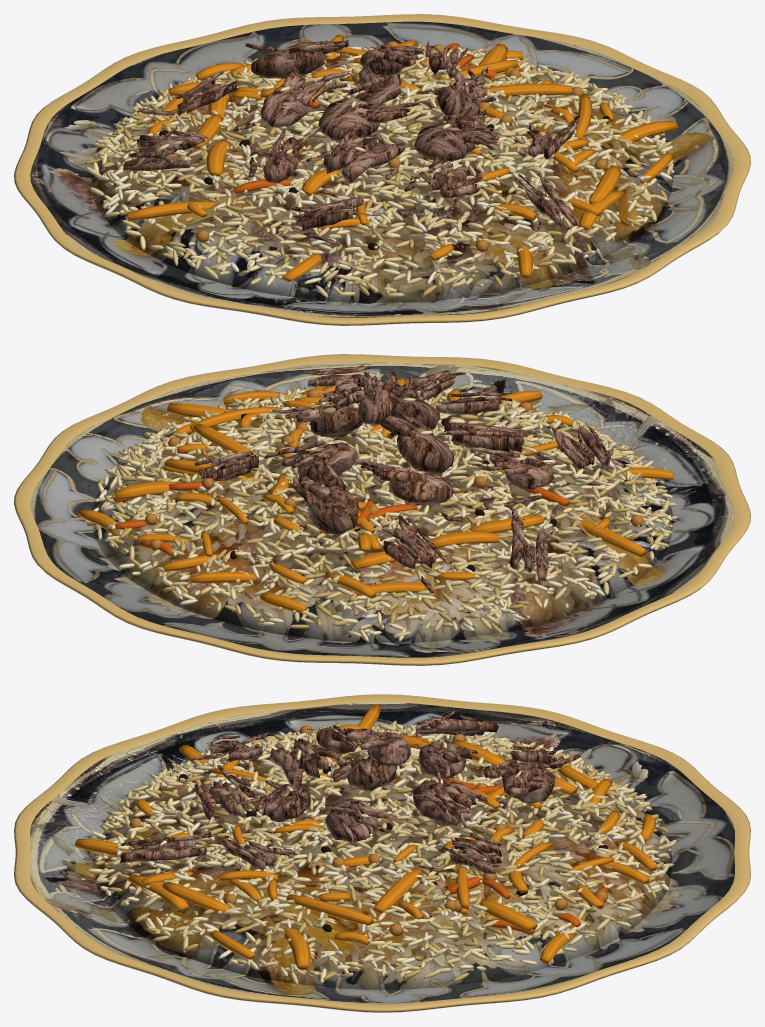
File: toyosh.glb
The picture shows the model from 3 angles, top to bottom: view 1: azimuth 30°, elevation 25°; view 2: azimuth 150°, elevation 25°; view 3: azimuth 270°, elevation 25°; orthographic projection.
Visible parts, largest first — view 1: 01_Handpainted_Porcelain_Lagan, 03_Individual_Long_Grain_Rice, 02_Rice_Interior, 05_Slow_Cooked_Meat_Pieces, 04_Braised_Yellow_and_Orange_Carrots, 09_Additional_Surface_Rice, 08_Chickpeas_Raisins_and_Cumin, 06_Torn_Meat_Fibers, 07_Gelatinous_Fat_Seams; view 2: 01_Handpainted_Porcelain_Lagan, 03_Individual_Long_Grain_Rice, 02_Rice_Interior, 05_Slow_Cooked_Meat_Pieces, 04_Braised_Yellow_and_Orange_Carrots, 09_Additional_Surface_Rice, 08_Chickpeas_Raisins_and_Cumin, 06_Torn_Meat_Fibers; view 3: 01_Handpainted_Porcelain_Lagan, 03_Individual_Long_Grain_Rice, 02_Rice_Interior, 05_Slow_Cooked_Meat_Pieces, 04_Braised_Yellow_and_Orange_Carrots, 09_Additional_Surface_Rice, 08_Chickpeas_Raisins_and_Cumin, 06_Torn_Meat_Fibers, 07_Gelatinous_Fat_Seams.
Part boxes in pixels (x1,y1,x2,y2): 01_Handpainted_Porcelain_Lagan: (14,14,750,325); 03_Individual_Long_Grain_Rice: (84,42,674,297); 02_Rice_Interior: (91,54,673,302); 05_Slow_Cooked_Meat_Pieces: (123,40,579,245); 04_Braised_Yellow_and_Orange_Carrots: (126,34,678,281); 09_Additional_Surface_Rice: (95,46,671,285); 08_Chickpeas_Raisins_and_Cumin: (158,41,609,251); 06_Torn_Meat_Fibers: (128,42,563,222); 07_Gelatinous_Fat_Seams: (159,44,559,200); 01_Handpainted_Porcelain_Lagan: (14,354,750,665); 03_Individual_Long_Grain_Rice: (83,386,678,642); 02_Rice_Interior: (92,394,673,642); 05_Slow_Cooked_Meat_Pieces: (194,365,613,592); 04_Braised_Yellow_and_Orange_Carrots: (77,377,673,612); 09_Additional_Surface_Rice: (98,384,667,629); 08_Chickpeas_Raisins_and_Cumin: (145,389,643,584); 06_Torn_Meat_Fibers: (202,377,587,565); 01_Handpainted_Porcelain_Lagan: (14,694,750,1012); 03_Individual_Long_Grain_Rice: (86,720,676,984); 02_Rice_Interior: (92,733,672,989); 05_Slow_Cooked_Meat_Pieces: (120,710,580,874); 04_Braised_Yellow_and_Orange_Carrots: (75,704,657,970); 09_Additional_Surface_Rice: (95,721,665,977); 08_Chickpeas_Raisins_and_Cumin: (129,725,608,935); 06_Torn_Meat_Fibers: (127,710,556,868); 07_Gelatinous_Fat_Seams: (160,729,522,860).
Bounding box in the file's own units: 0.28 × 0.0661 × 0.2754.
16 materials, 13 textured.
